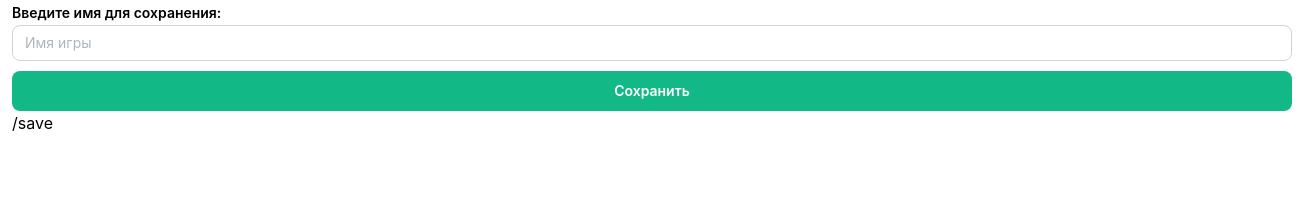
Test: SaveGame › сообщает об ошибке localStorage
Type "Финал" into the field labelled "Введите имя для сохранения:".
click(652, 43); type("Финал")  # box [12,25,1292,61]
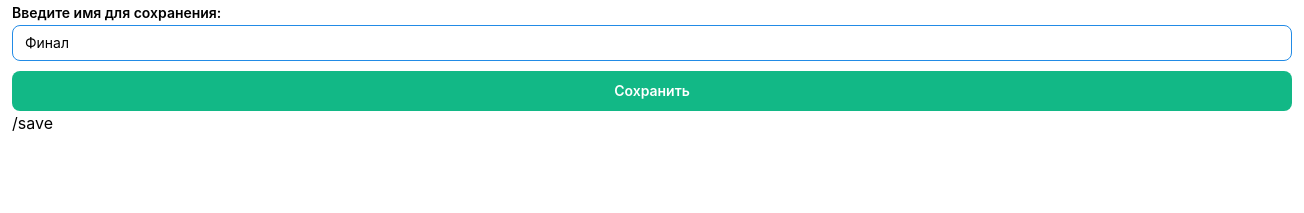
Click the button "Сохранить".
click(652, 91)  # box [12,71,1292,111]
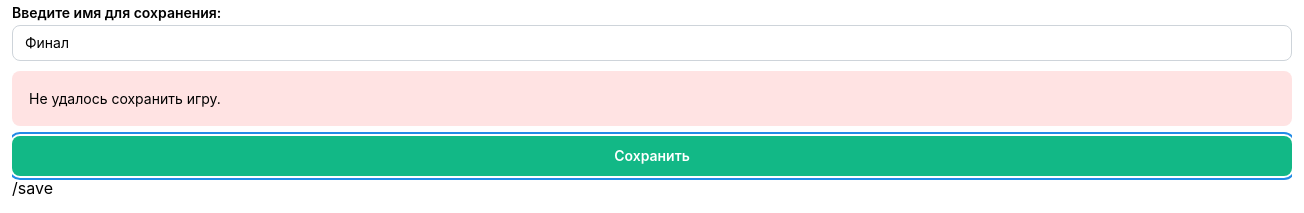
Expected: the text "Не удалось сохранить игру." is shown, [29,90,221,107]
